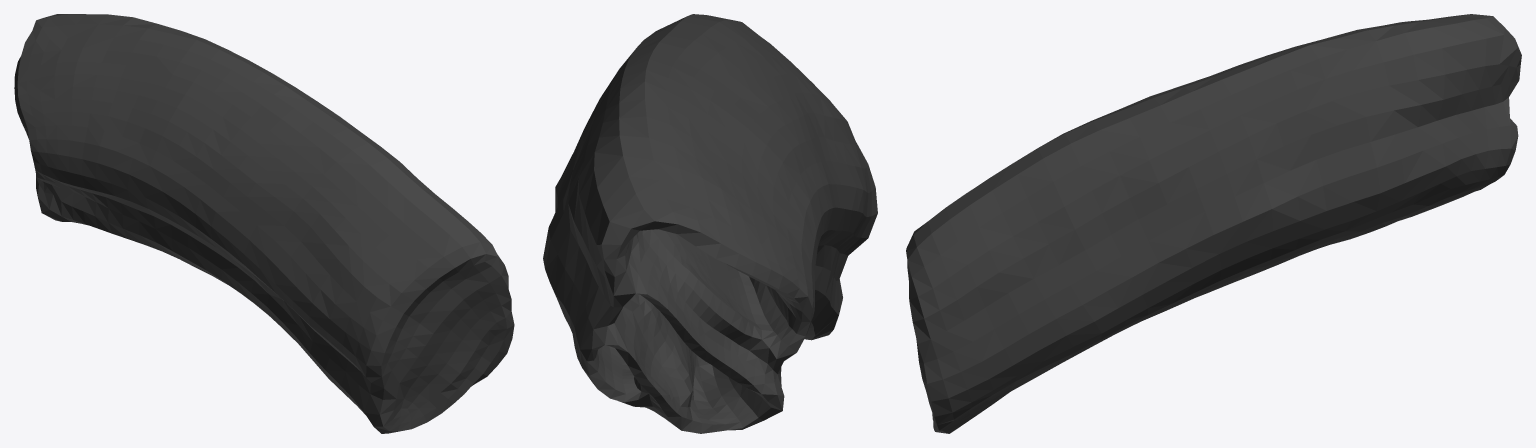
3 views of the same model, side by side, from view 1: azimuth 30°, elevation 25°; view 2: azimuth 150°, elevation 25°; view 3: azimuth 270°, elevation 25° (orthographic). The views are drawn at different scales.
Parts seen in each view (by area): view 1: world; view 2: world; view 3: world.
Boxes of the visible parts, x1,y1,x2,y2 form: world: (14,14,514,433); world: (543,14,877,433); world: (906,14,1521,433).
Size of the model in its own units: 0.2557 by 0.2421 by 0.3851.
1 material, 1 textured.
